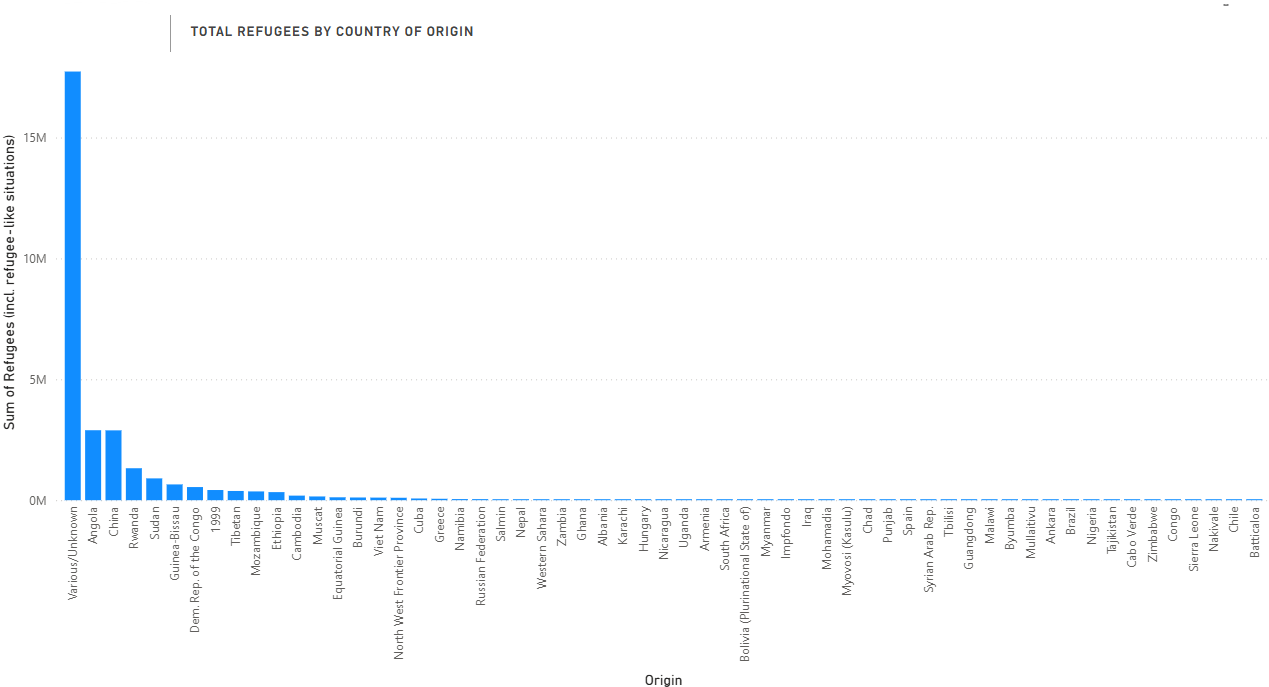

The dashboard page shown, as its layout file describes it:
{"tool":"powerbi","page":{"name":"Total Refugees by Country of Origin","canvas":[1280,720],"ordinal":2},"visuals":[{"type":"columnChart","title":"Total Refugees by Country of Origin","fields":{"Category":["project persons_of_concern.Origin"],"Y":["Sum(project persons_of_concern.Refugees (incl. refugee-like situations))"]},"box":[10.6,0,1269.7,720.8],"z":0}]}

Visuals, with their boxes on the page's 1280x720 design canvas (x1, y1, x2, y2). These are canvas units, not pixel positions in the 1269x687 screenshot, which may show the page scaled, cropped or inside an application window:
"Total Refugees by Country of Origin" columnChart: [x1=11, y1=0, x2=1280, y2=721]
